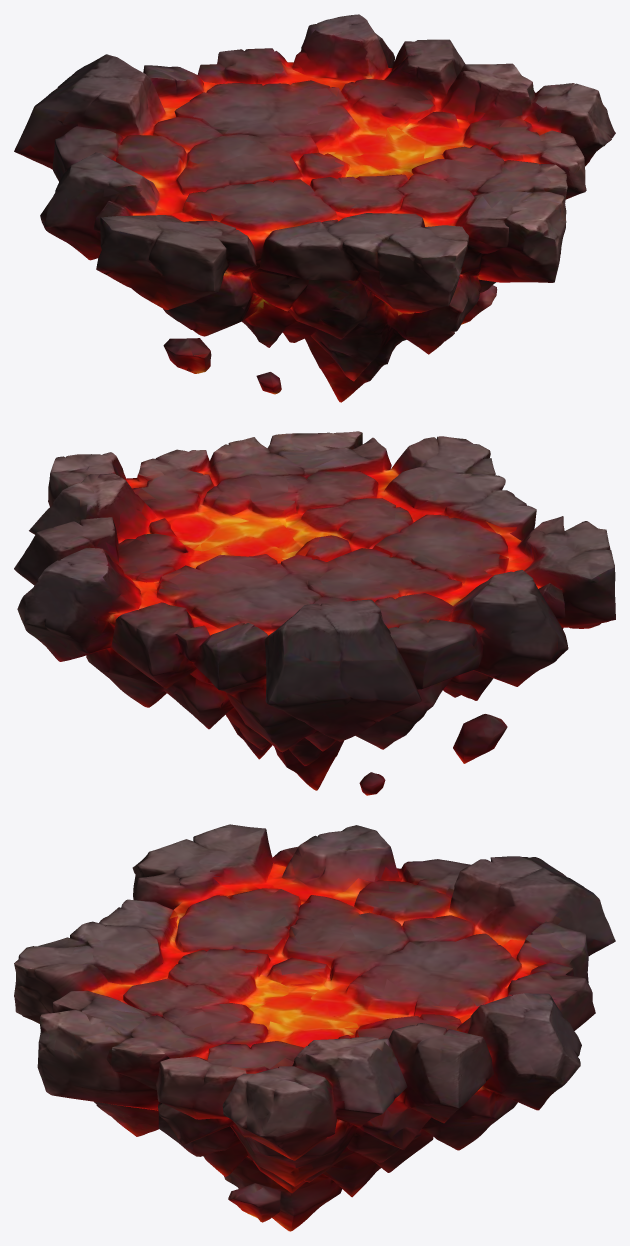
File: R3_Island_Plateau.fbx
3 renders of one model, top to bottom at view 1: azimuth 30°, elevation 25°; view 2: azimuth 150°, elevation 25°; view 3: azimuth 270°, elevation 25°, orthographic. The views are drawn at different scales.
Visible parts, largest first — view 1: R3_Island_Plateau; view 2: R3_Island_Plateau; view 3: R3_Island_Plateau.
Part boxes in pixels (x1,y1,x2,y2): R3_Island_Plateau: (14,14,615,402); R3_Island_Plateau: (14,431,615,795); R3_Island_Plateau: (14,824,615,1231).
Size of the model in its own units: 900 by 450 by 830.
1 material, 1 textured.
